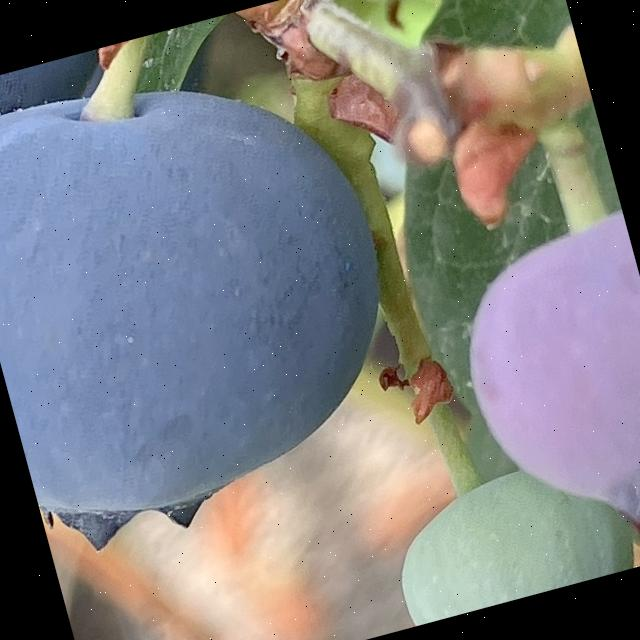Blueberries: (0, 22, 429, 551)
